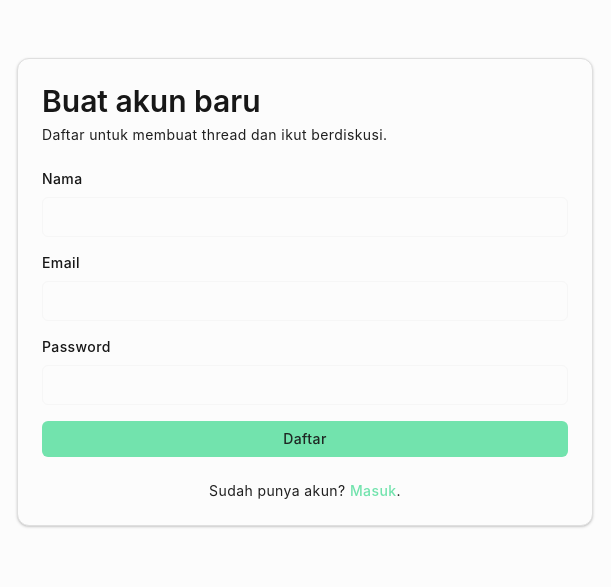
Test: RegisterPage › shows validation error on empty submit
The image size is (611, 587).
Click the button "Daftar": (305, 439) [42,421,568,457]
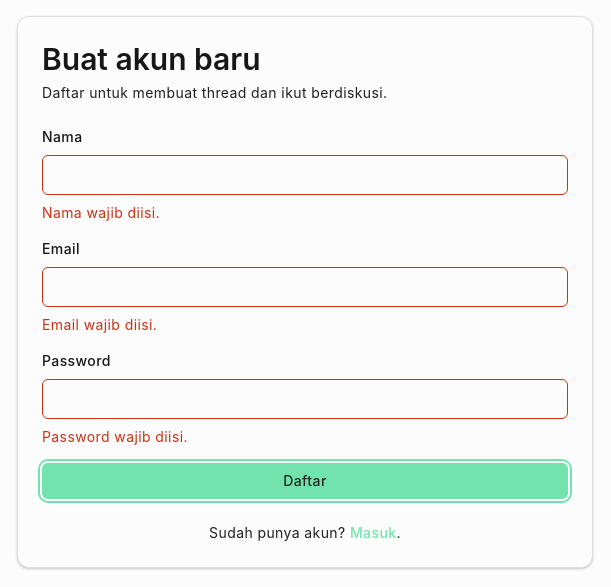
Expected: the text "Nama wajib diisi." is shown, [42,204,160,221]
Expected: the text "Email wajib diisi." is shown, [42,316,157,333]
Expected: the text "Password wajib diisi." is shown, [42,428,188,445]
